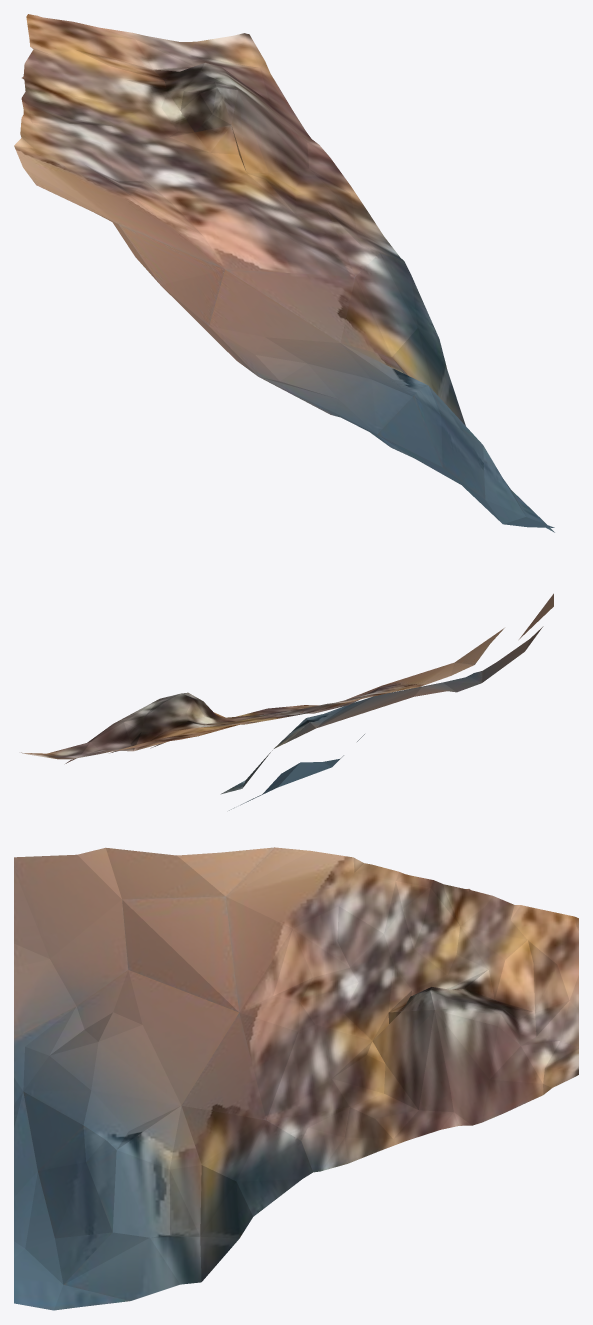
The picture shows the model from 3 angles, top to bottom: view 1: azimuth 30°, elevation 25°; view 2: azimuth 150°, elevation 25°; view 3: azimuth 270°, elevation 25°; orthographic projection. The views are drawn at different scales.
Bounding box in the file's own units: 1.15 × 0.9795 × 1.67.
2 materials, 2 textured.
